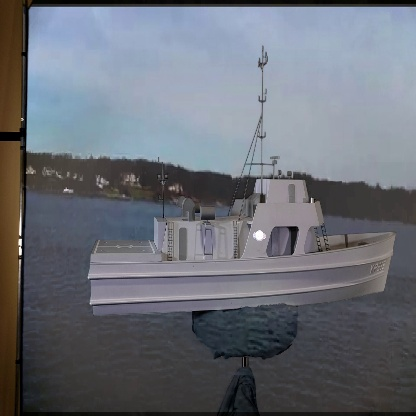YP689: (88, 43, 395, 319)
